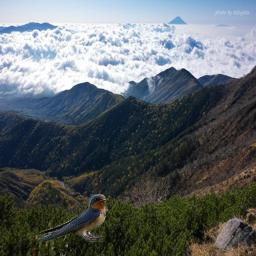Swallow: (26, 194, 110, 242)
